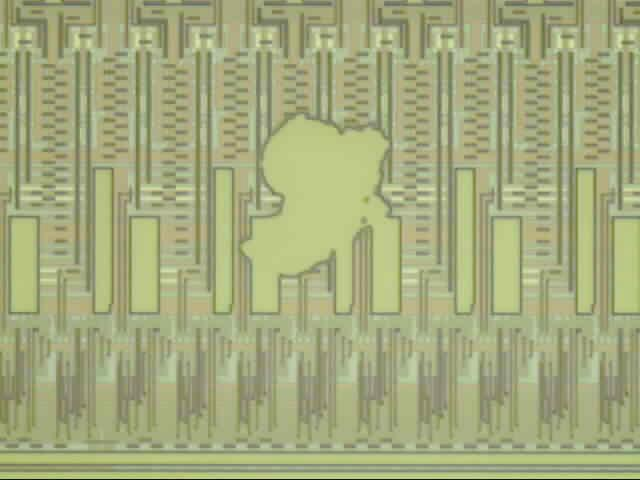BLOCK ETCH: (238, 111, 396, 280)
